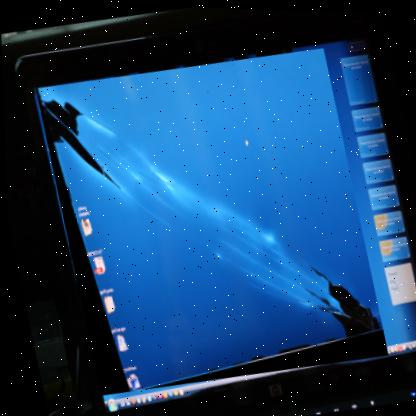crack: (33, 36, 388, 404)
